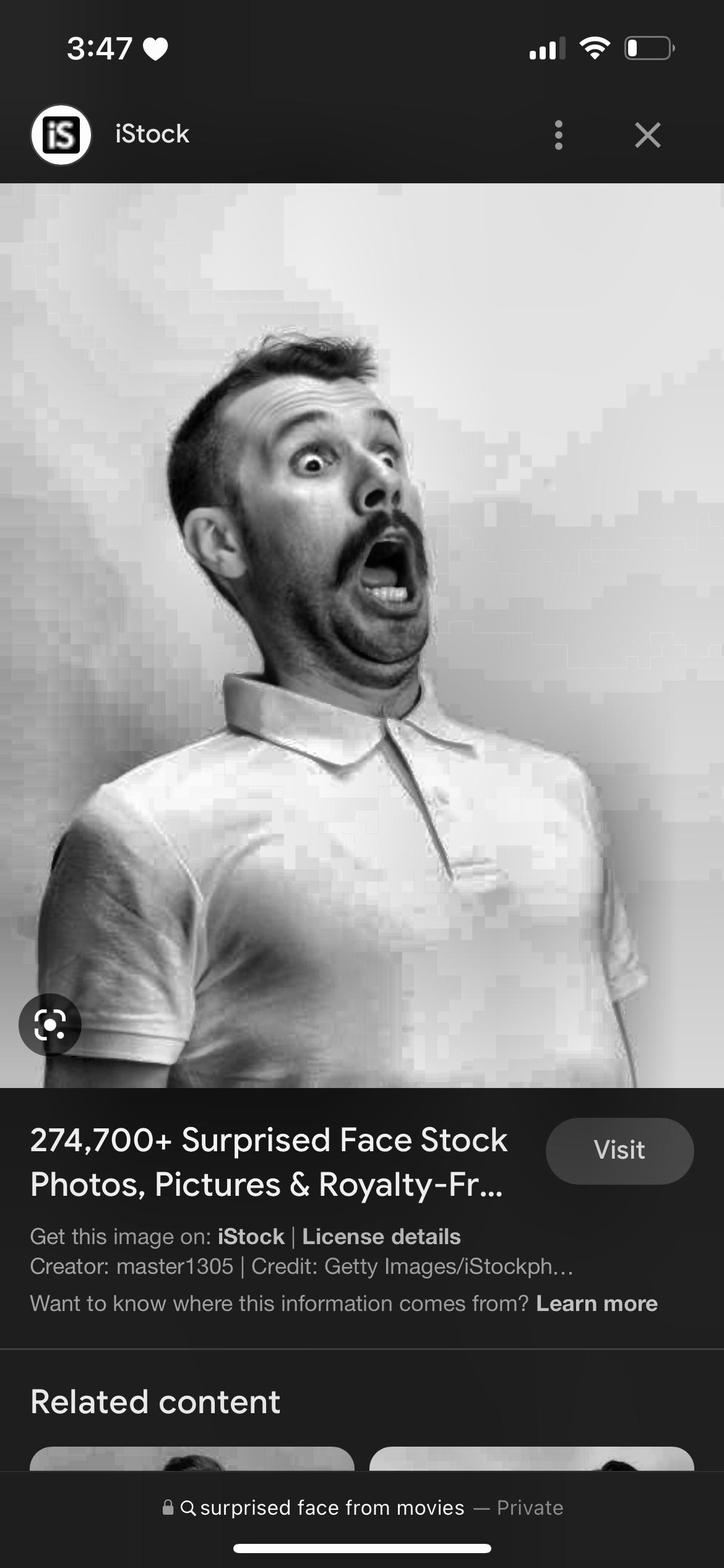Surprised: (220, 390, 434, 668)
